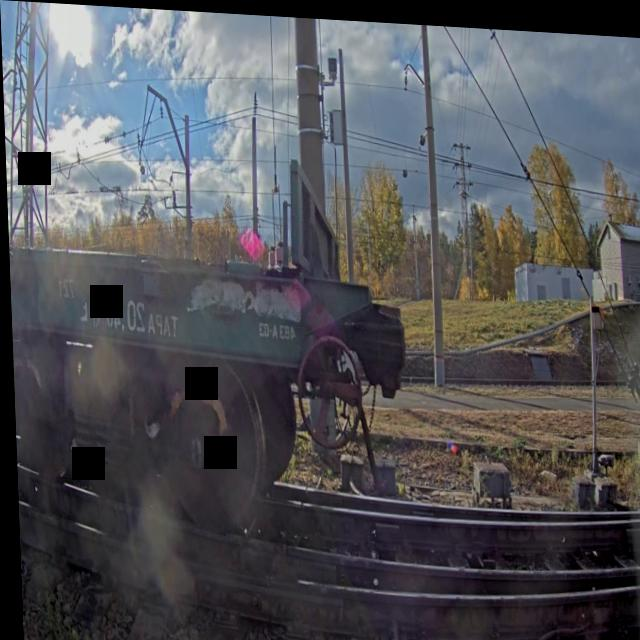tank: (4, 133, 419, 561)
